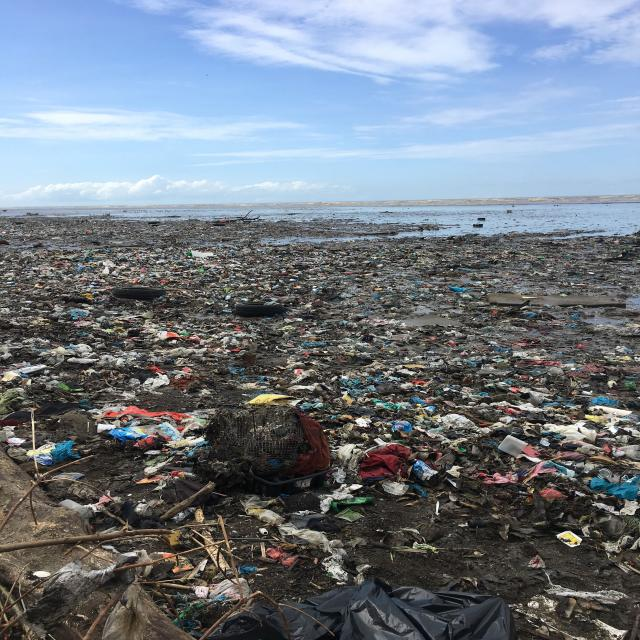plastic watse: (16, 221, 637, 604)
